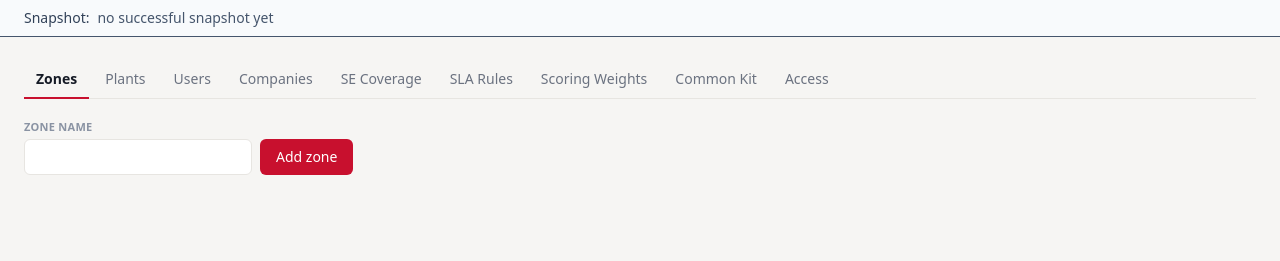
Test: Settings — Operations Head only (AC#1) › edits an existing company tier + override via PATCH (Issue 46)
The width and height of the screenshot is (1280, 261).
Click the tab "Companies".
click(276, 80)  # box [227, 61, 325, 99]
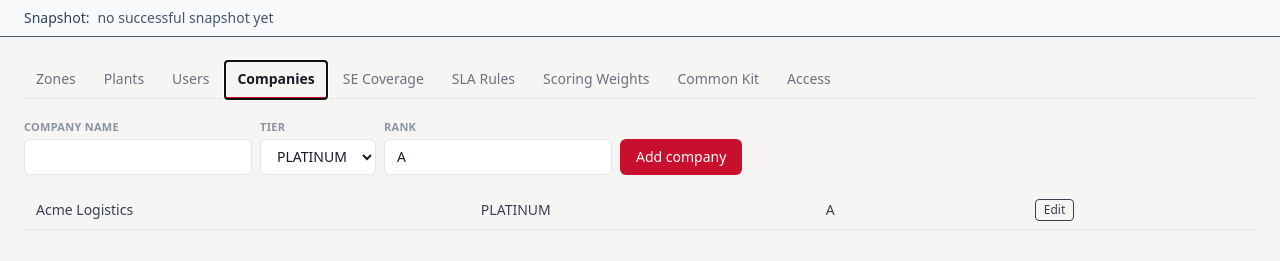
Click the button "Edit".
click(1055, 210)  # box [1035, 199, 1074, 221]
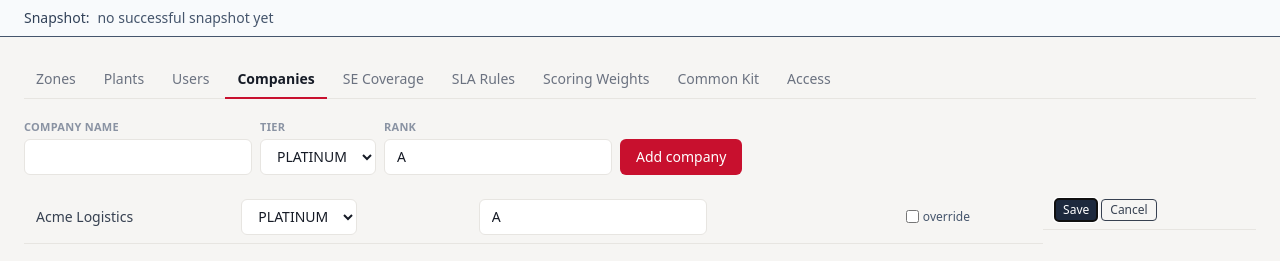
Select "GOLD" in the dropdown named "tier for" at (299, 217), box [241, 199, 357, 235]
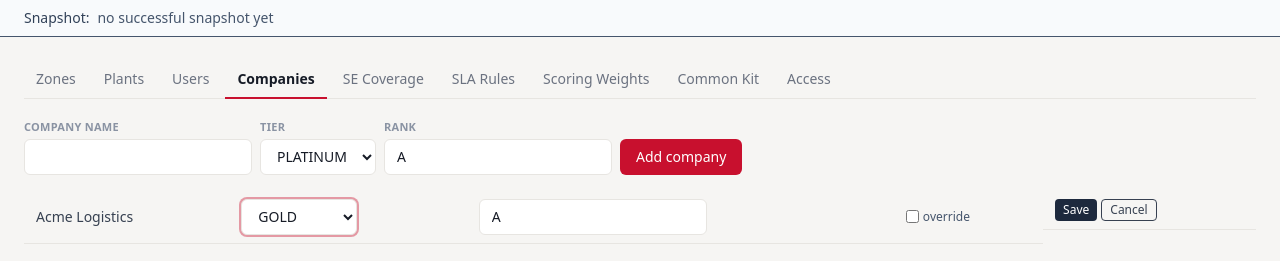
Click the checkbox named "override for".
click(912, 217)  # box [906, 210, 919, 223]
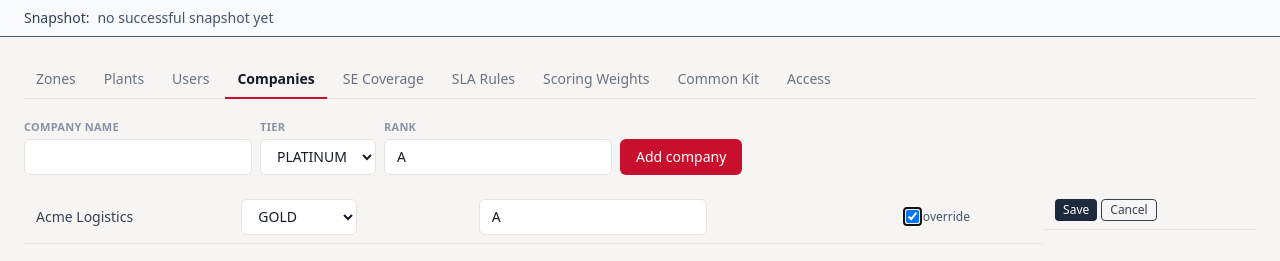
Click the button "Save".
click(1076, 210)  # box [1055, 199, 1097, 221]
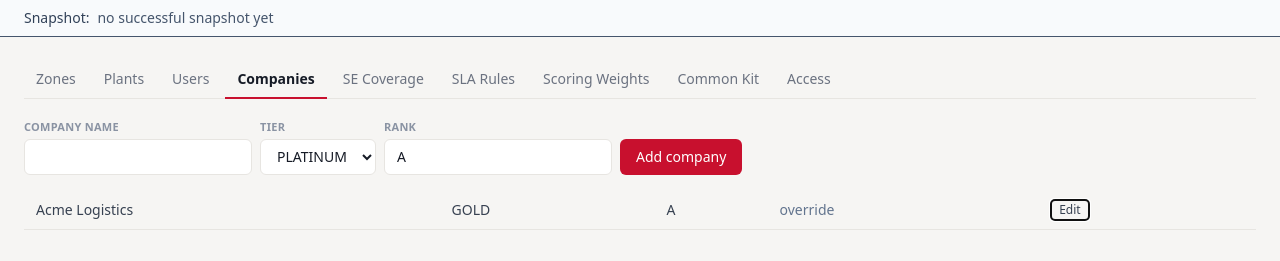
Result: the text "GOLD" is shown at [440, 191, 654, 229]
